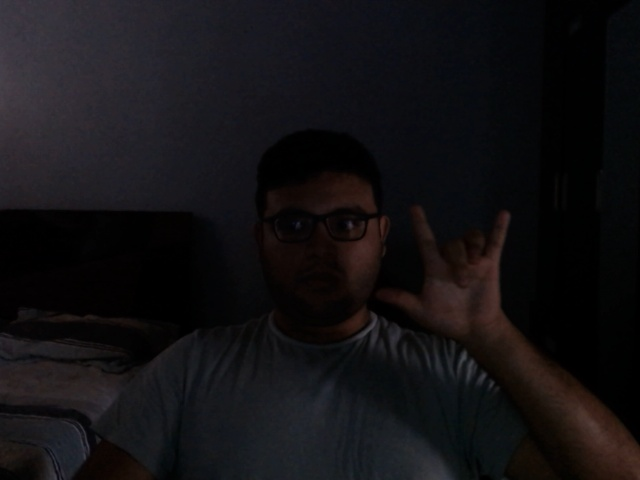I love you: (375, 190, 519, 369)
